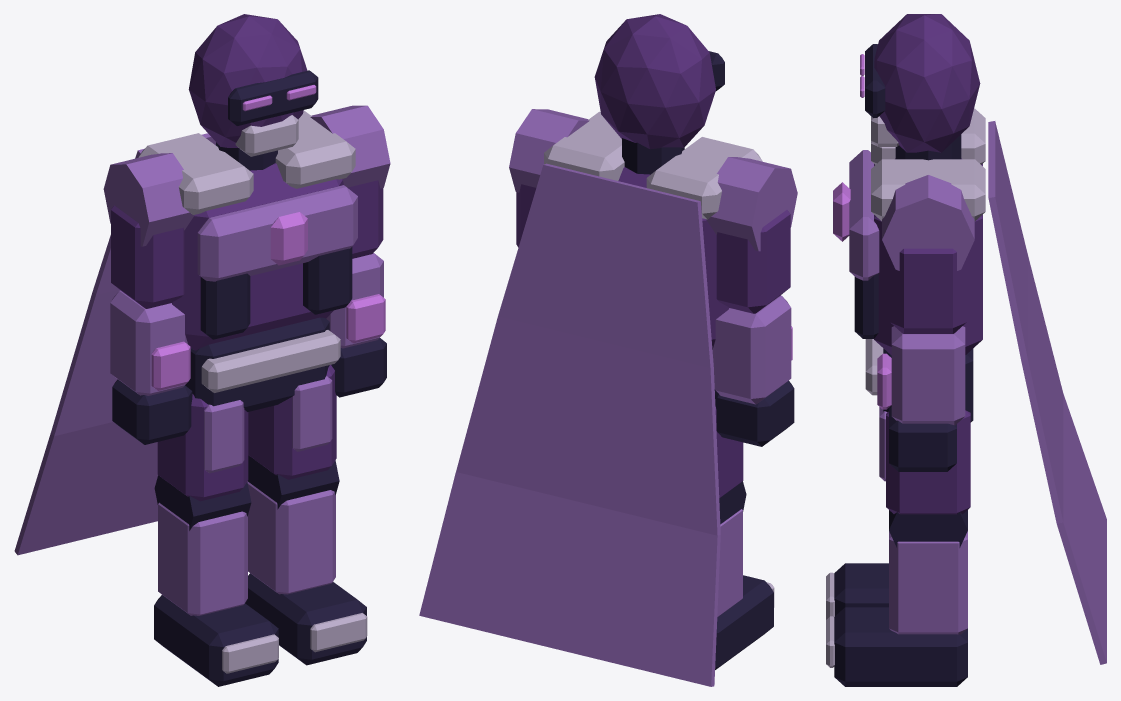
The model's file is violet-sentinel.glb.
The picture shows the model from 3 angles, left to right: view 1: azimuth 30°, elevation 25°; view 2: azimuth 150°, elevation 25°; view 3: azimuth 270°, elevation 25°; orthographic projection.
Visible parts, largest first — view 1: chest, shin_l, shin_r, head, cape_tail, upperarm_l, forearm_l, pelvis, thigh_l, thigh_r, forearm_r, cape_mid (+4 smaller); view 2: cape_tail, cape_mid, cape_top, head, upperarm_l, forearm_l, chest, shin_l, upperarm_r, thigh_l; view 3: shin_r, head, chest, upperarm_r, forearm_r, cape_tail, cape_mid, thigh_r, cape_top, shin_l, pelvis, sigil.
Boxes of the visible parts, left/top/right/bottom form: chest: left=138, top=110, right=357, bottom=350; shin_l: left=154, top=475, right=278, bottom=686; shin_r: left=245, top=455, right=367, bottom=665; head: left=188, top=14, right=318, bottom=170; cape_tail: left=14, top=422, right=157, bottom=555; upperarm_l: left=103, top=153, right=194, bottom=308; forearm_l: left=110, top=290, right=192, bottom=444; pelvis: left=185, top=317, right=340, bottom=411; thigh_l: left=157, top=394, right=248, bottom=501; thigh_r: left=248, top=365, right=336, bottom=479; forearm_r: left=326, top=253, right=386, bottom=397; cape_mid: left=51, top=289, right=120, bottom=436; cape_tail: left=419, top=472, right=720, bottom=686; cape_mid: left=456, top=316, right=720, bottom=535; cape_top: left=498, top=163, right=713, bottom=367; head: left=594, top=14, right=724, bottom=174; upperarm_l: left=706, top=157, right=797, bottom=313; forearm_l: left=712, top=295, right=794, bottom=446; chest: left=544, top=111, right=762, bottom=349; shin_l: left=715, top=481, right=774, bottom=669; upperarm_r: left=509, top=109, right=589, bottom=247; thigh_l: left=715, top=406, right=743, bottom=497; shin_r: left=826, top=510, right=967, bottom=686; head: left=865, top=14, right=980, bottom=160; chest: left=849, top=108, right=985, bottom=355; upperarm_r: left=882, top=175, right=974, bottom=333; forearm_r: left=877, top=326, right=965, bottom=471; cape_tail: left=1057, top=394, right=1106, bottom=664; cape_mid: left=1021, top=256, right=1063, bottom=523; thigh_r: left=879, top=407, right=970, bottom=514; cape_top: left=988, top=121, right=1027, bottom=360; shin_l: left=826, top=563, right=888, bottom=619; pelvis: left=865, top=339, right=973, bottom=422; sigil: left=833, top=182, right=850, bottom=241.
Size of the model in its own units: 1.25 by 2.58 by 1.03.
